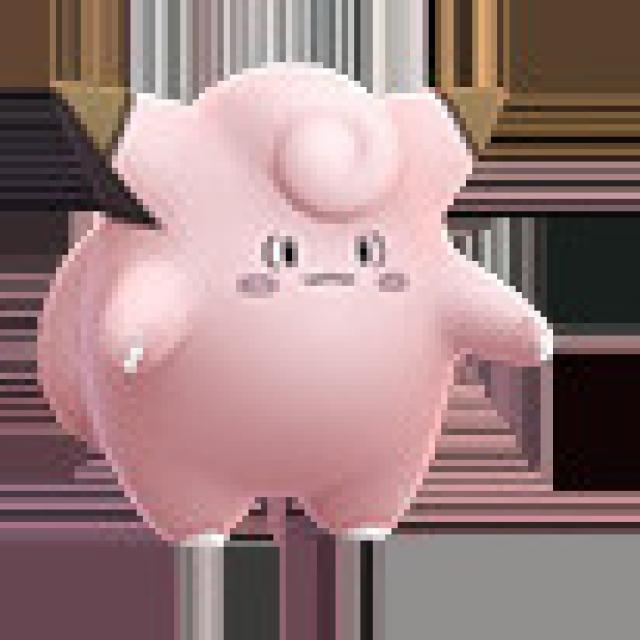Clefairy: (26, 58, 544, 551)
